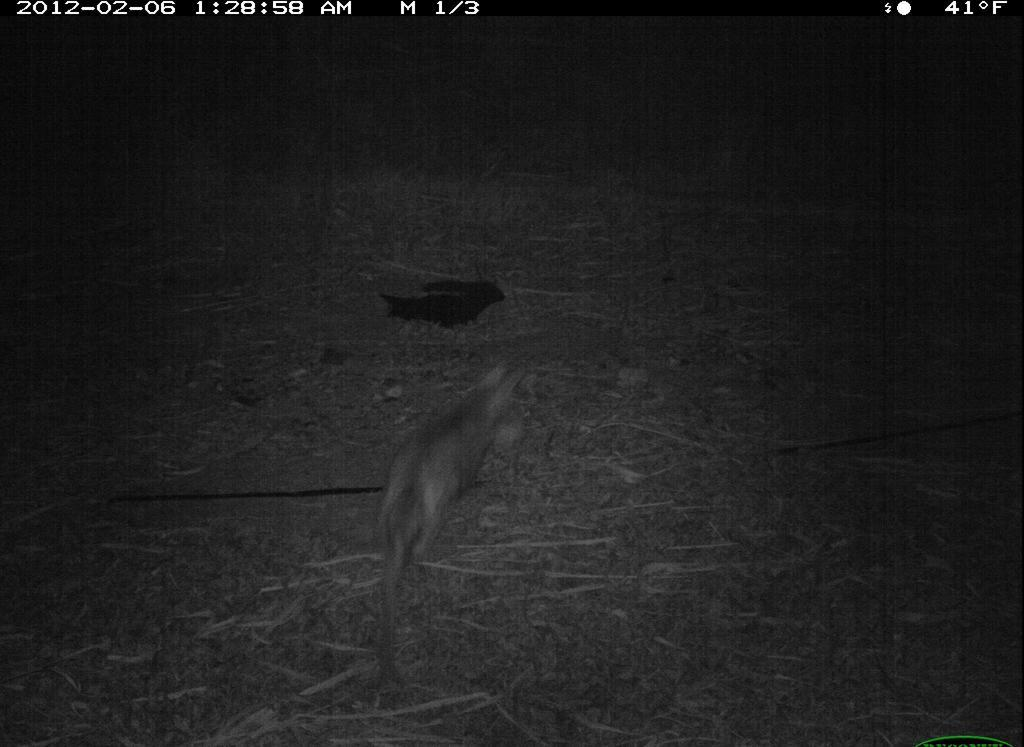coyote: (364, 358, 531, 664)
